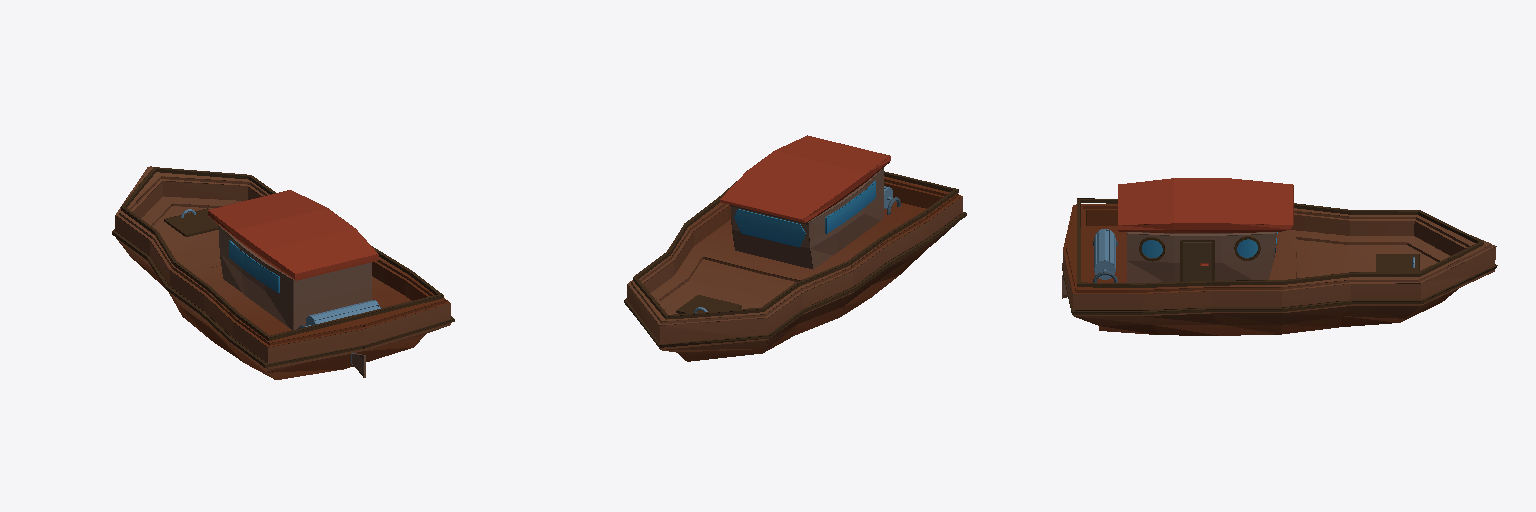
3 renders of one model, left to right at view 1: azimuth 30°, elevation 25°; view 2: azimuth 150°, elevation 25°; view 3: azimuth 270°, elevation 25°, orthographic.
Size of the model in its own units: 239 by 133 by 475.
1 materials, 1 textured.